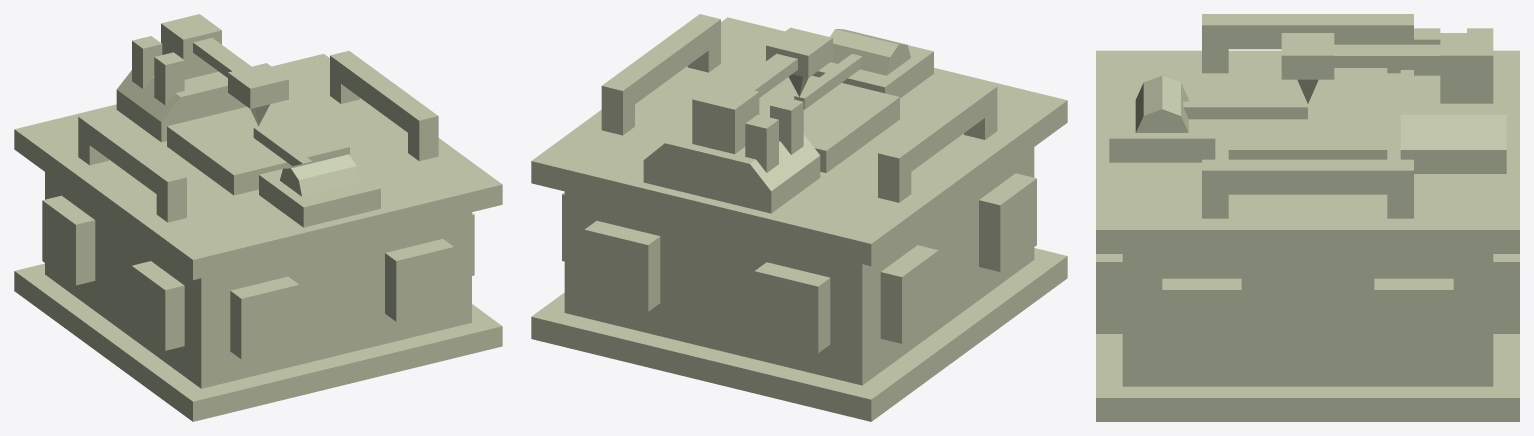
File: soldering_station.obj
The picture shows the model from 3 angles, left to right: view 1: azimuth 30°, elevation 25°; view 2: azimuth 150°, elevation 25°; view 3: azimuth 270°, elevation 25°; orthographic projection. The views are drawn at different scales.
Visible parts, largest first — view 1: Plane; view 2: Plane; view 3: Plane.
Part boxes in pixels (x1=…): Plane: x1=14, y1=14, x2=502, y2=421; Plane: x1=531, y1=14, x2=1067, y2=421; Plane: x1=1096, y1=14, x2=1519, y2=421.
Bounding box in the file's own units: 2 × 1.5 × 2.
